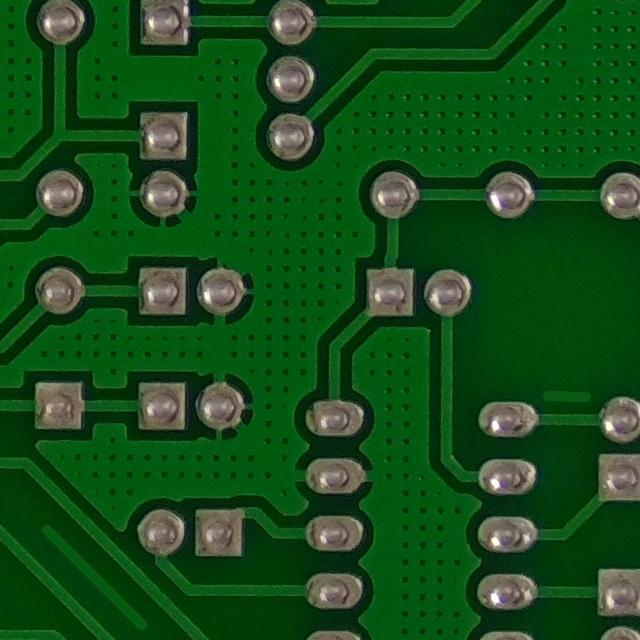spurious_copper: (29, 516, 155, 639), (536, 381, 599, 409)
